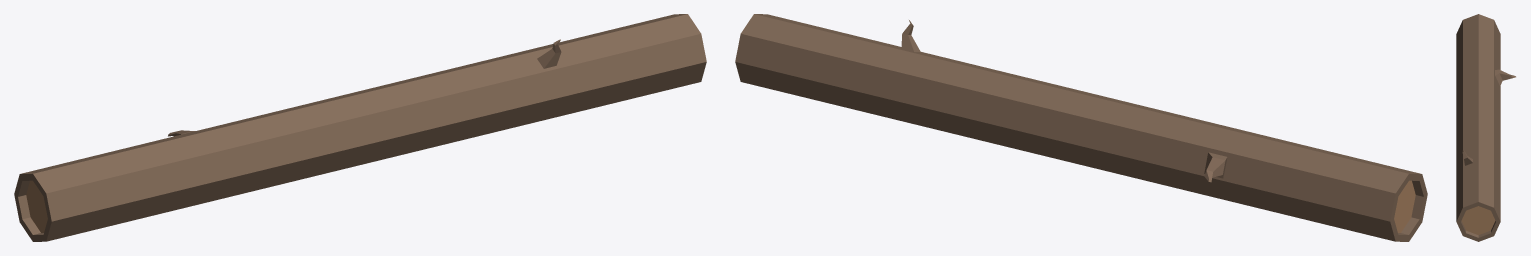
The model's file is FallenTree.fbx.
The picture shows the model from 3 angles, left to right: view 1: azimuth 30°, elevation 25°; view 2: azimuth 150°, elevation 25°; view 3: azimuth 270°, elevation 25°; orthographic projection. The views are drawn at different scales.
Visible parts, largest first — view 1: pCylinder2; view 2: pCylinder2; view 3: pCylinder2.
Part boxes in pixels (x1=…): pCylinder2: x1=14, y1=14, x2=706, y2=241; pCylinder2: x1=735, y1=14, x2=1427, y2=241; pCylinder2: x1=1456, y1=14, x2=1515, y2=241.
Size of the model in its own units: 20.11 by 2.56 by 2.72.
